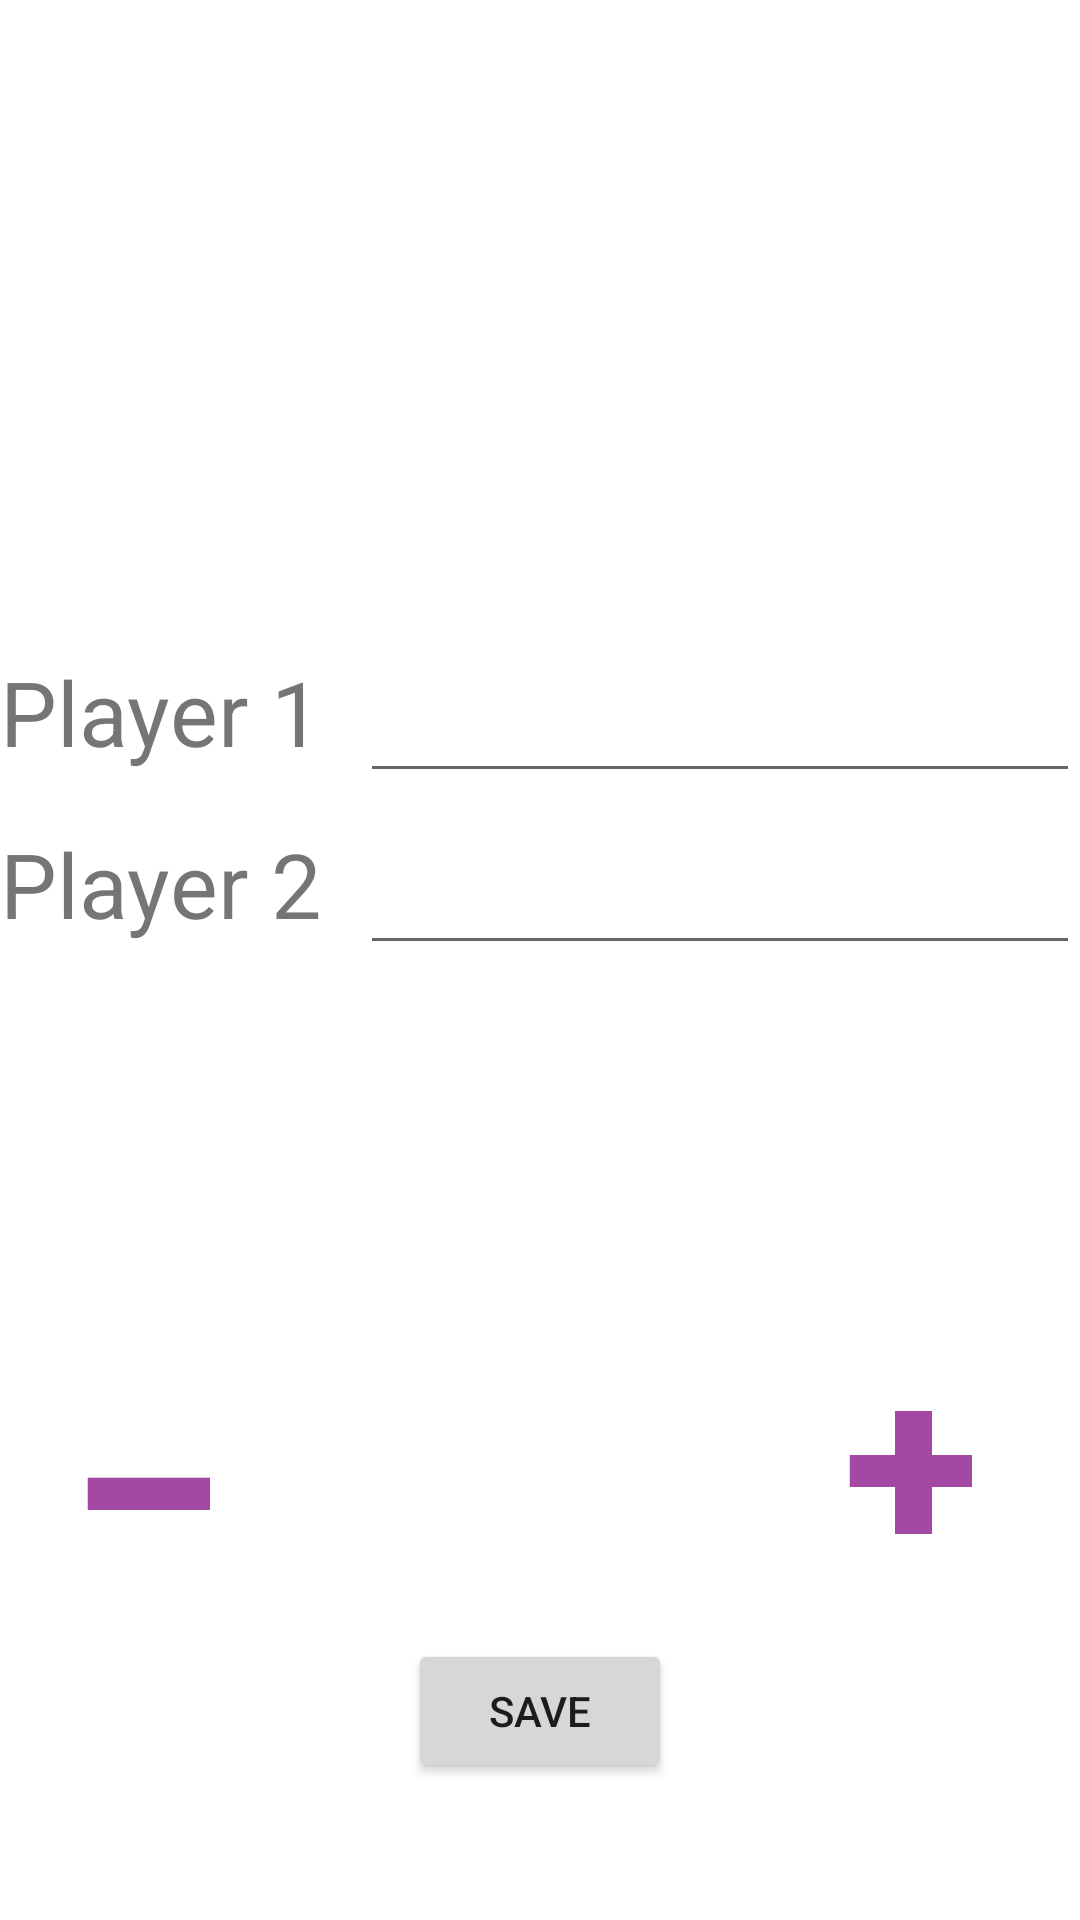

Icon bounding boxes for this 1080x1920 phone screenshot, format [x1=x1, y1=y1, x2=x2, y2=y2]:
minus: [x1=87, y1=1477, x2=210, y2=1510]
plus: [x1=849, y1=1411, x2=972, y2=1534]
